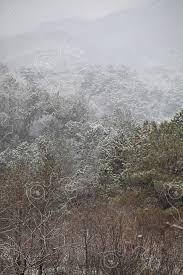mountain: (7, 52, 183, 272)
